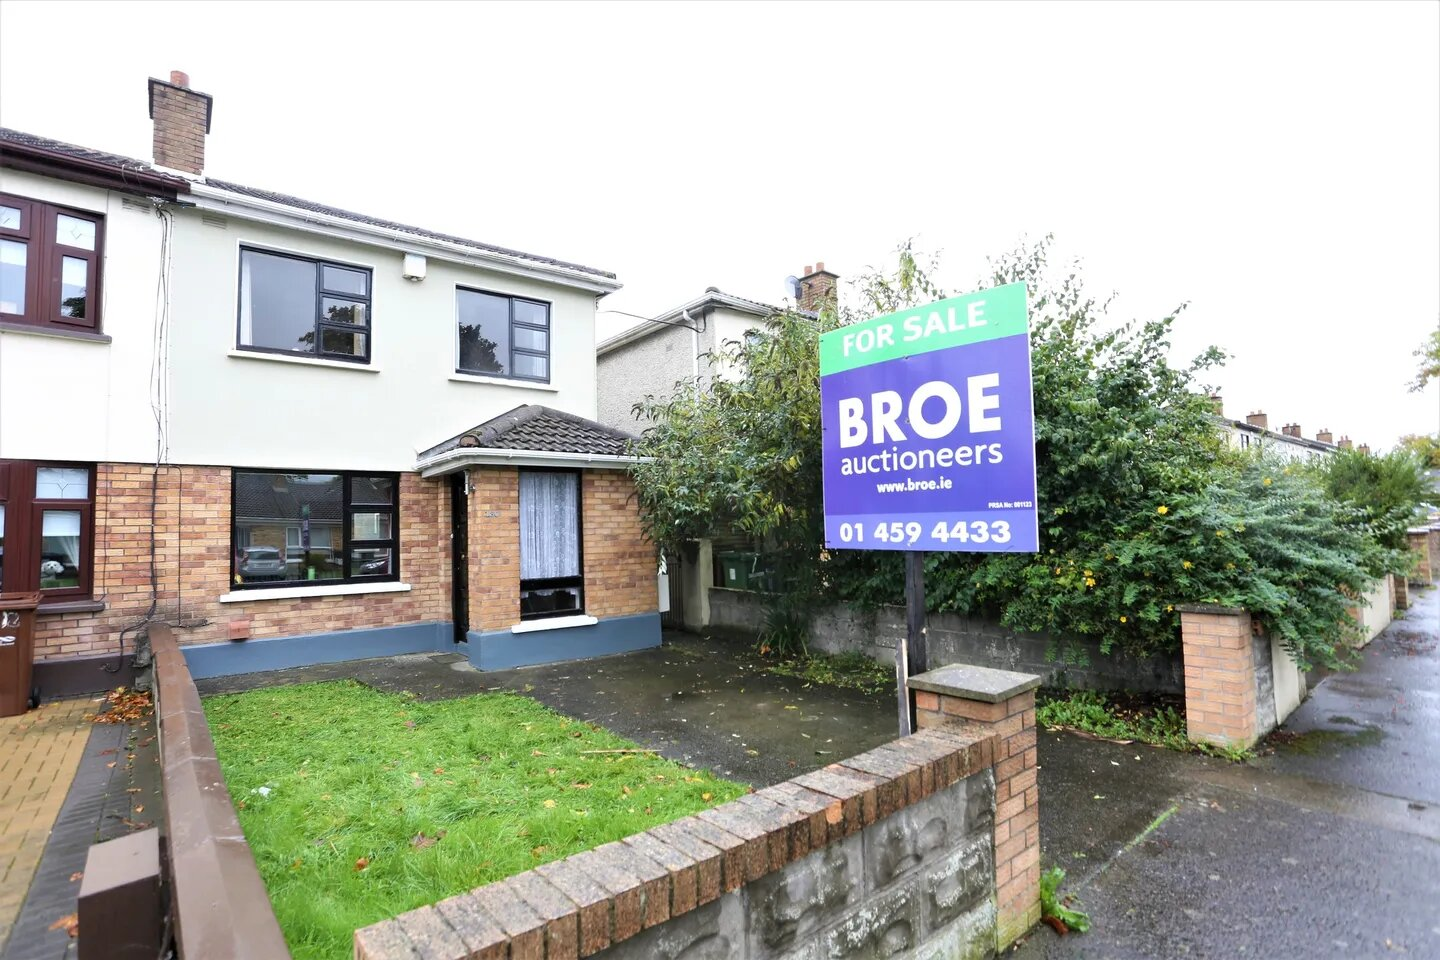property sign: (809, 274, 1050, 579)
